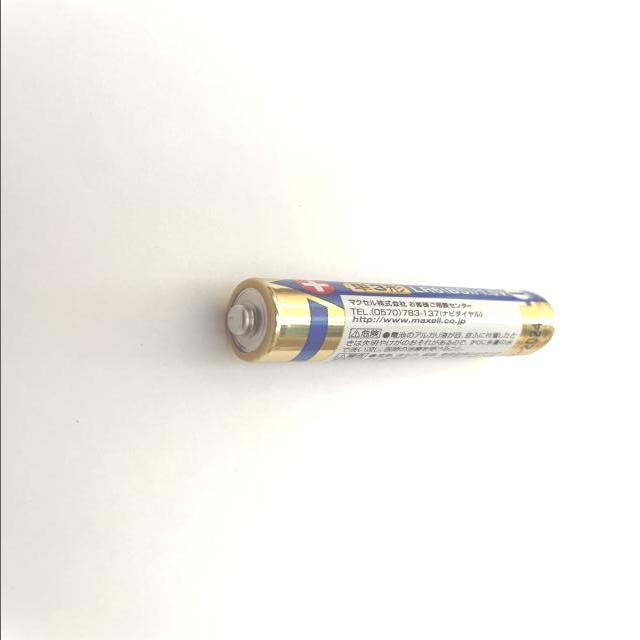AAA: (221, 273, 559, 364)
